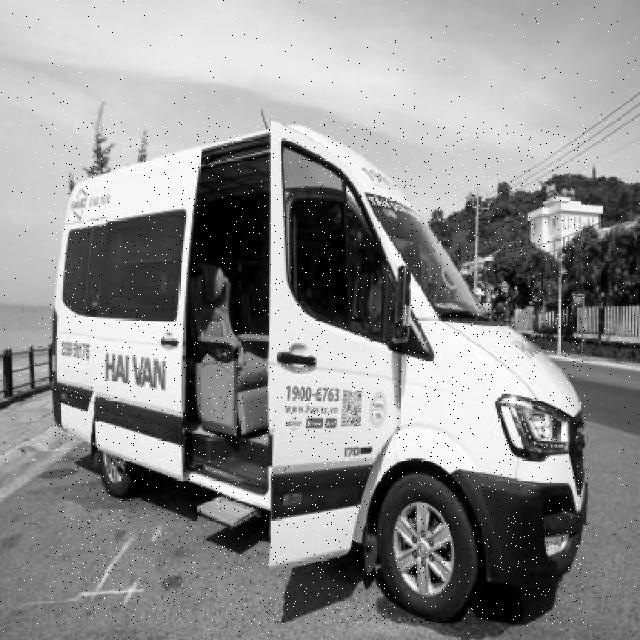Van: (50, 122, 588, 624)
